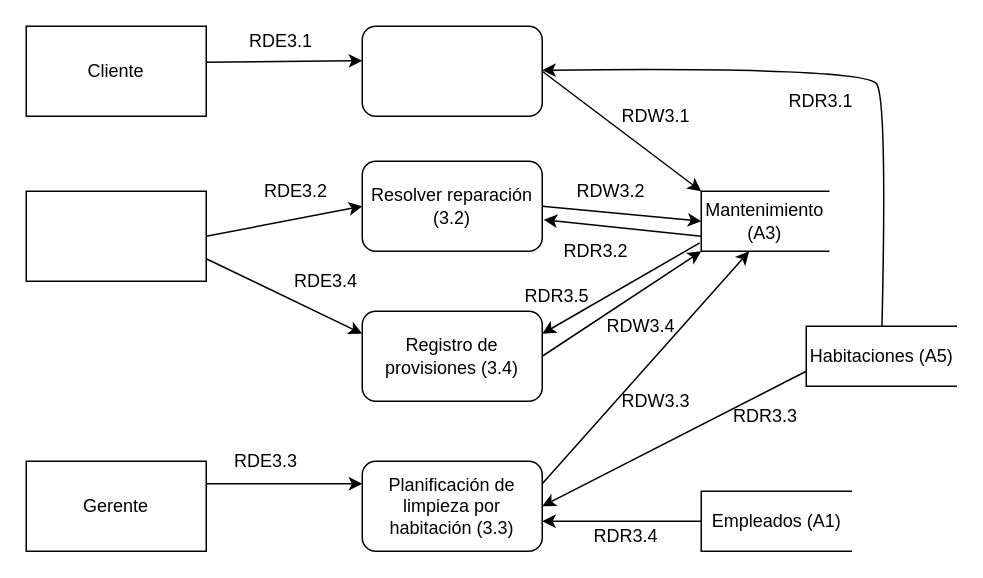
This 983x578 diagram has some shape labels left out. The centre of each missing label's shape, as x and y in pixels:
"Empleado de mantenimiento" belongs at point 115,235.
"Registrar aviso de reparación (3.1)" belongs at point 451,70.
